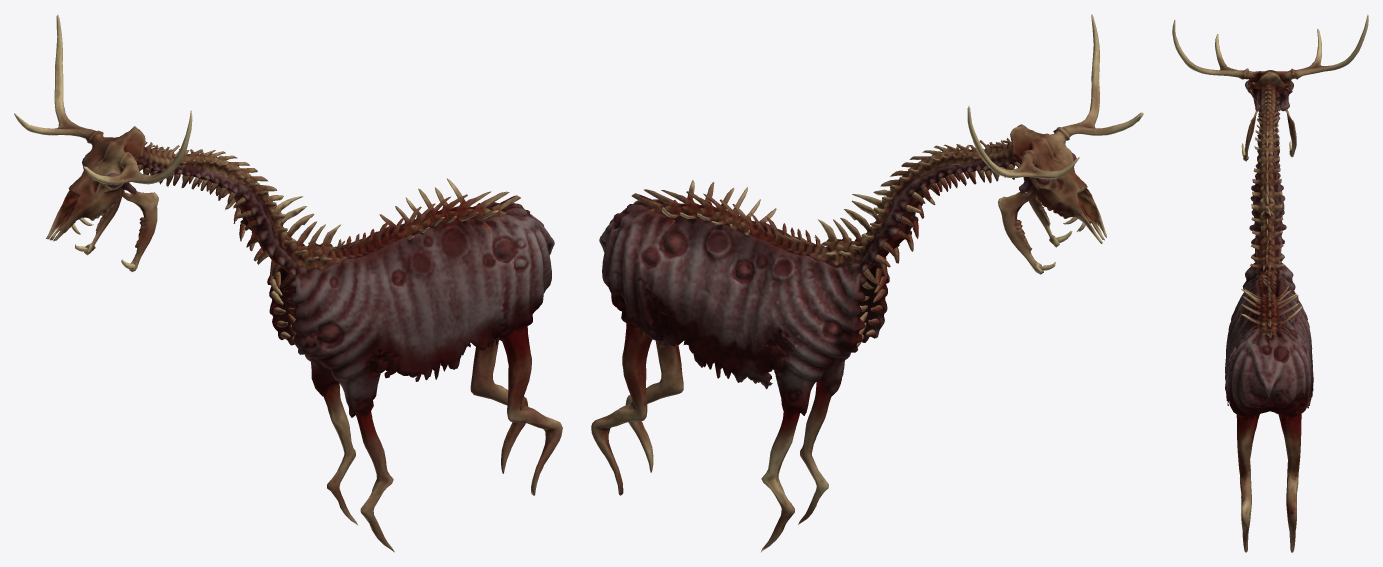
Rendered from deer_thing.glb.
3 views of the same model, side by side, from view 1: azimuth 30°, elevation 25°; view 2: azimuth 150°, elevation 25°; view 3: azimuth 270°, elevation 25° (orthographic). The views are drawn at different scales.
Parts seen in each view (by area): view 1: g (×2); view 2: g (×2); view 3: g.
Part boxes in pixels (x1,y1,x2,y2): g (×2): (14, 14, 562, 552); g (×2): (591, 14, 1143, 552); g: (1172, 14, 1368, 552).
Bounding box in the file's own units: 1.97 × 2 × 0.8728.
3 materials, 3 textured.
